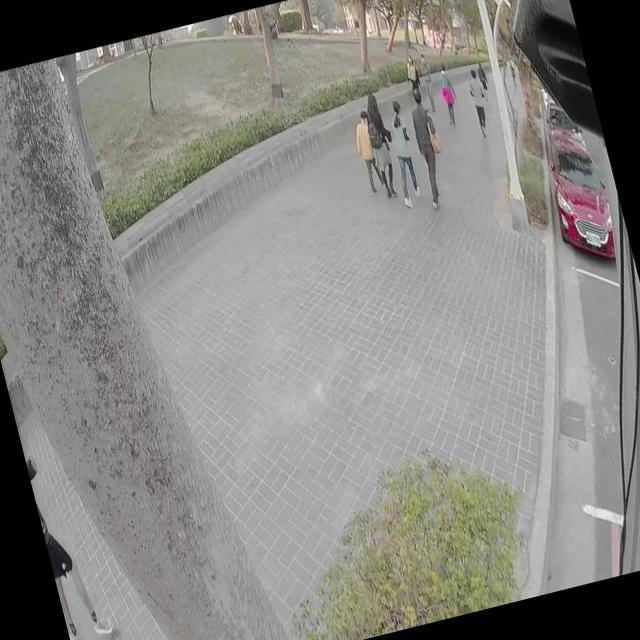person: (24, 444, 117, 640), (402, 84, 452, 206), (380, 99, 424, 205), (357, 89, 399, 196), (348, 105, 386, 194), (462, 66, 492, 137), (434, 64, 460, 125), (416, 53, 439, 110), (402, 52, 426, 104), (473, 60, 490, 98)
